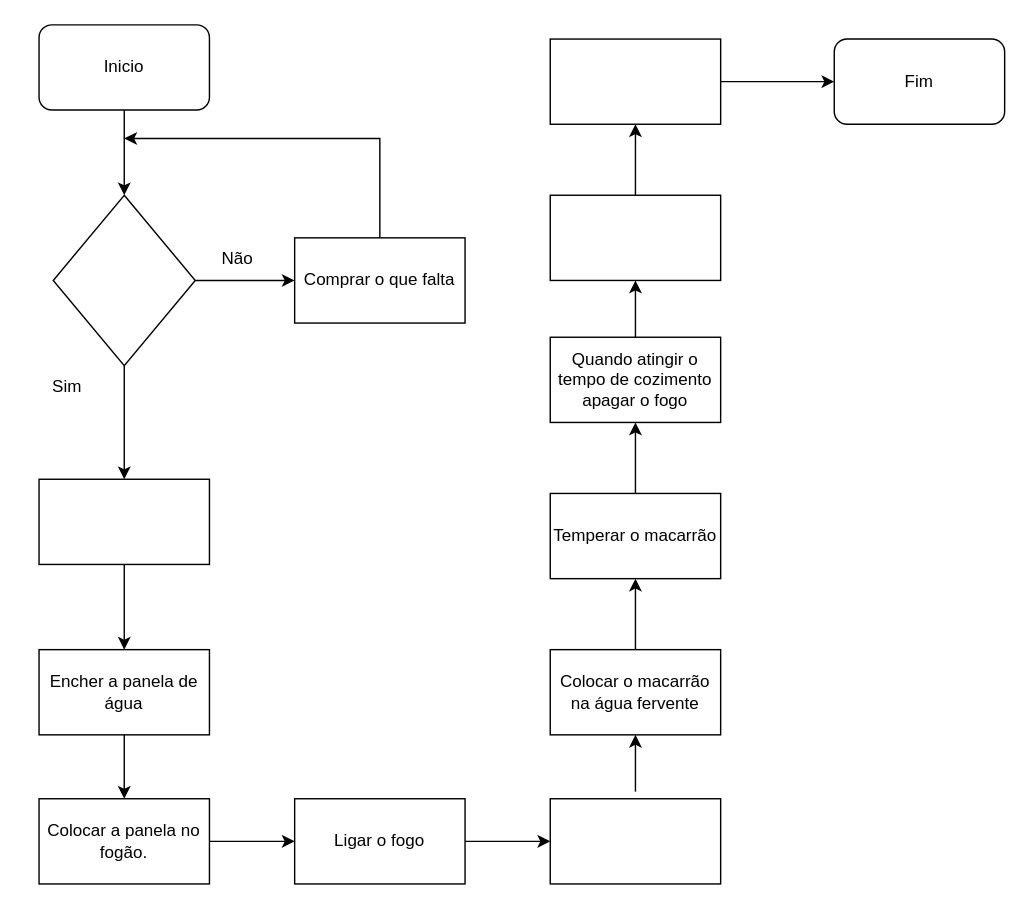
Image size: 1030x909. Some labels were removed from this diagram. The box of each missing label's shape, as (x1, y1, x2, y2) in pixels:
Colocar o macarrão no escorredor: (549, 194, 721, 280)
Esperar a água ferver: (549, 797, 721, 884)
Separar todos os utensílios adequados.: (38, 478, 209, 564)
Servir quando terminar de escorrer.: (549, 38, 721, 124)
Tem todos ingredientes?: (52, 194, 195, 366)
